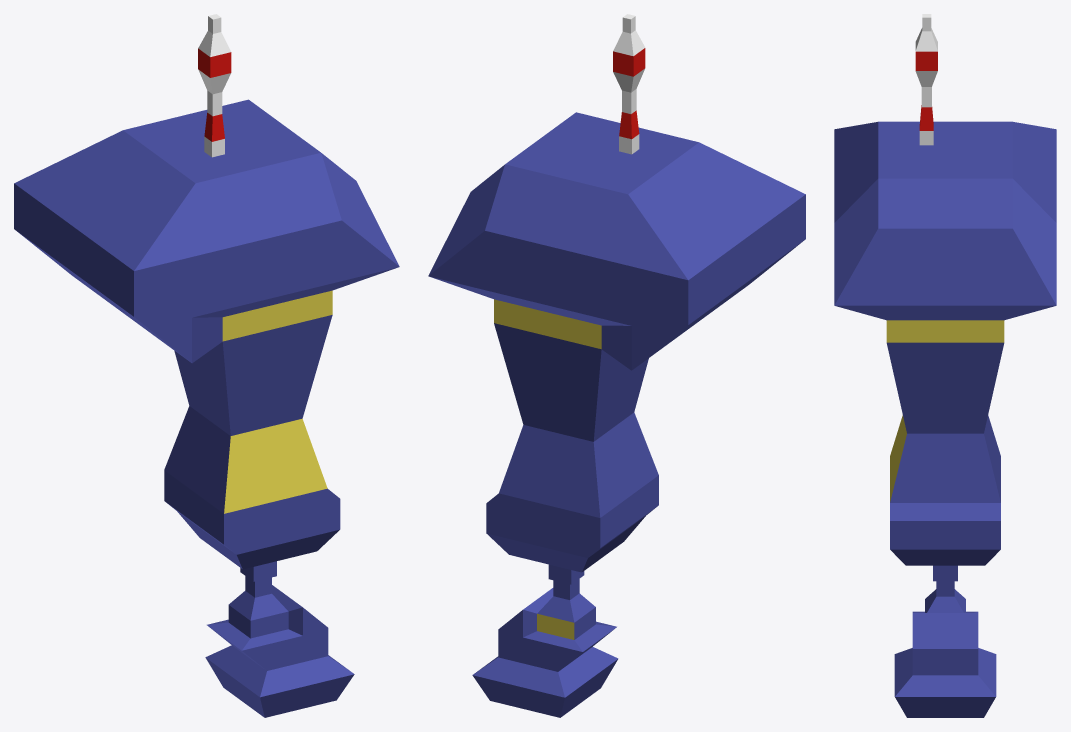
File: home_station.fbx
3 renders of one model, left to right at view 1: azimuth 30°, elevation 25°; view 2: azimuth 150°, elevation 25°; view 3: azimuth 270°, elevation 25°, orthographic. The views are drawn at different scales.
Visible parts, largest first — view 1: Cube; view 2: Cube; view 3: Cube.
Part boxes in pixels (x1,y1,x2,y2): Cube: (14,14,399,717); Cube: (428,14,805,717); Cube: (834,14,1056,717).
Bounding box in the file's own units: 1750 × 4424 × 1368.
